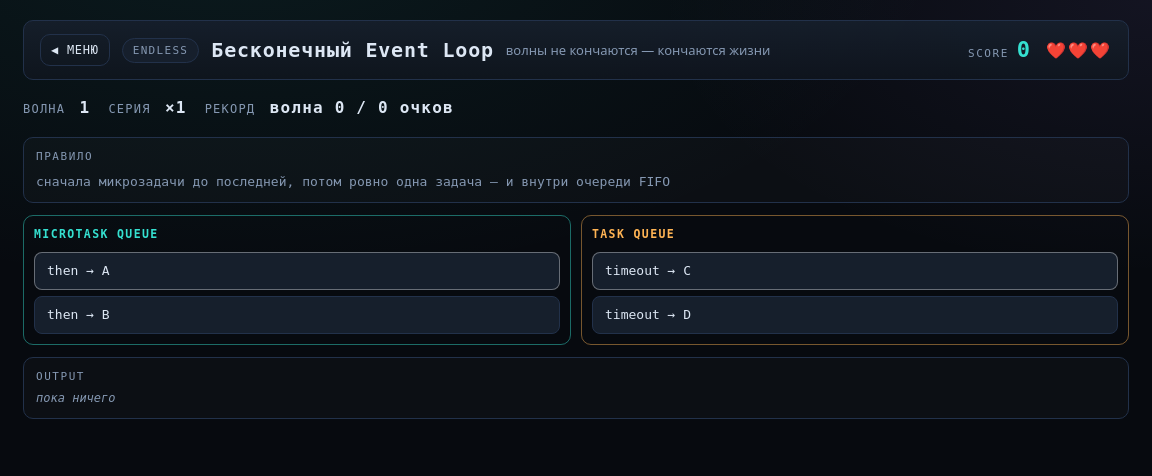
Test: экран бесконечного режима › ход по правилам › убирает операцию из очереди и печатает её строку
Step 1. Click the button with class "chip" showing "then → A" → point(78, 270), box [34,252,560,290]
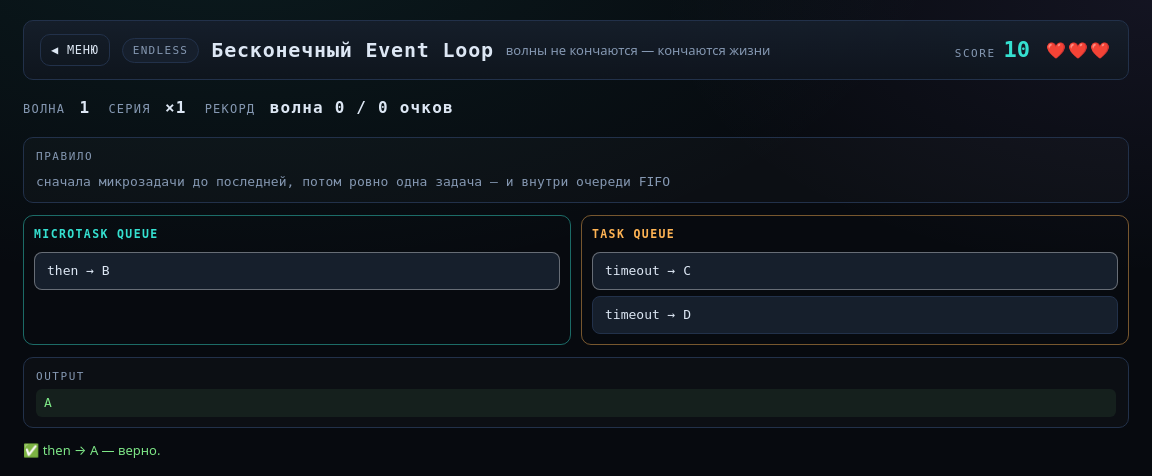
expect the text "✅ then → A — верно." is shown: met, box [23,442,160,460]
